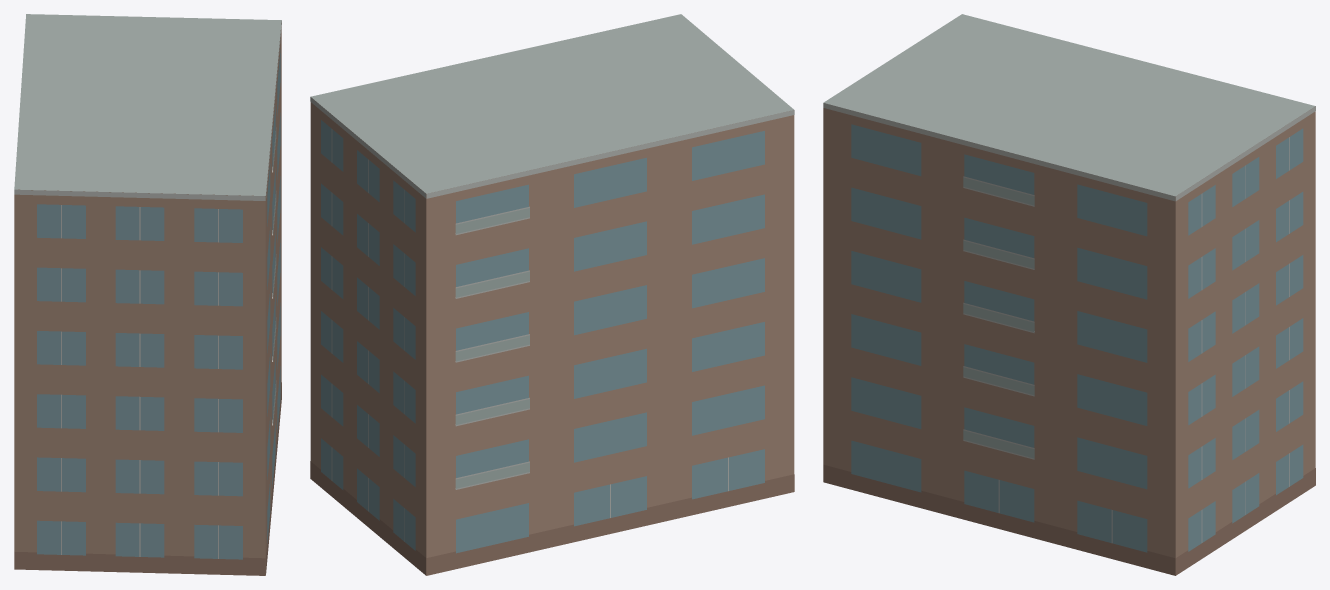
File: survey-upis-32973498.glb
3 renders of one model, left to right at view 1: azimuth 30°, elevation 25°; view 2: azimuth 150°, elevation 25°; view 3: azimuth 270°, elevation 25°, orthographic.
Visible parts, largest first — view 1: survey-upis-32973498.tmp; view 2: survey-upis-32973498.tmp; view 3: survey-upis-32973498.tmp.
Part boxes in pixels (left/top/right/bottom): survey-upis-32973498.tmp: left=14, top=14, right=281, bottom=575; survey-upis-32973498.tmp: left=310, top=14, right=794, bottom=575; survey-upis-32973498.tmp: left=823, top=14, right=1315, bottom=575.
Size of the model in its own units: 18.98 by 18.4 by 21.65.
